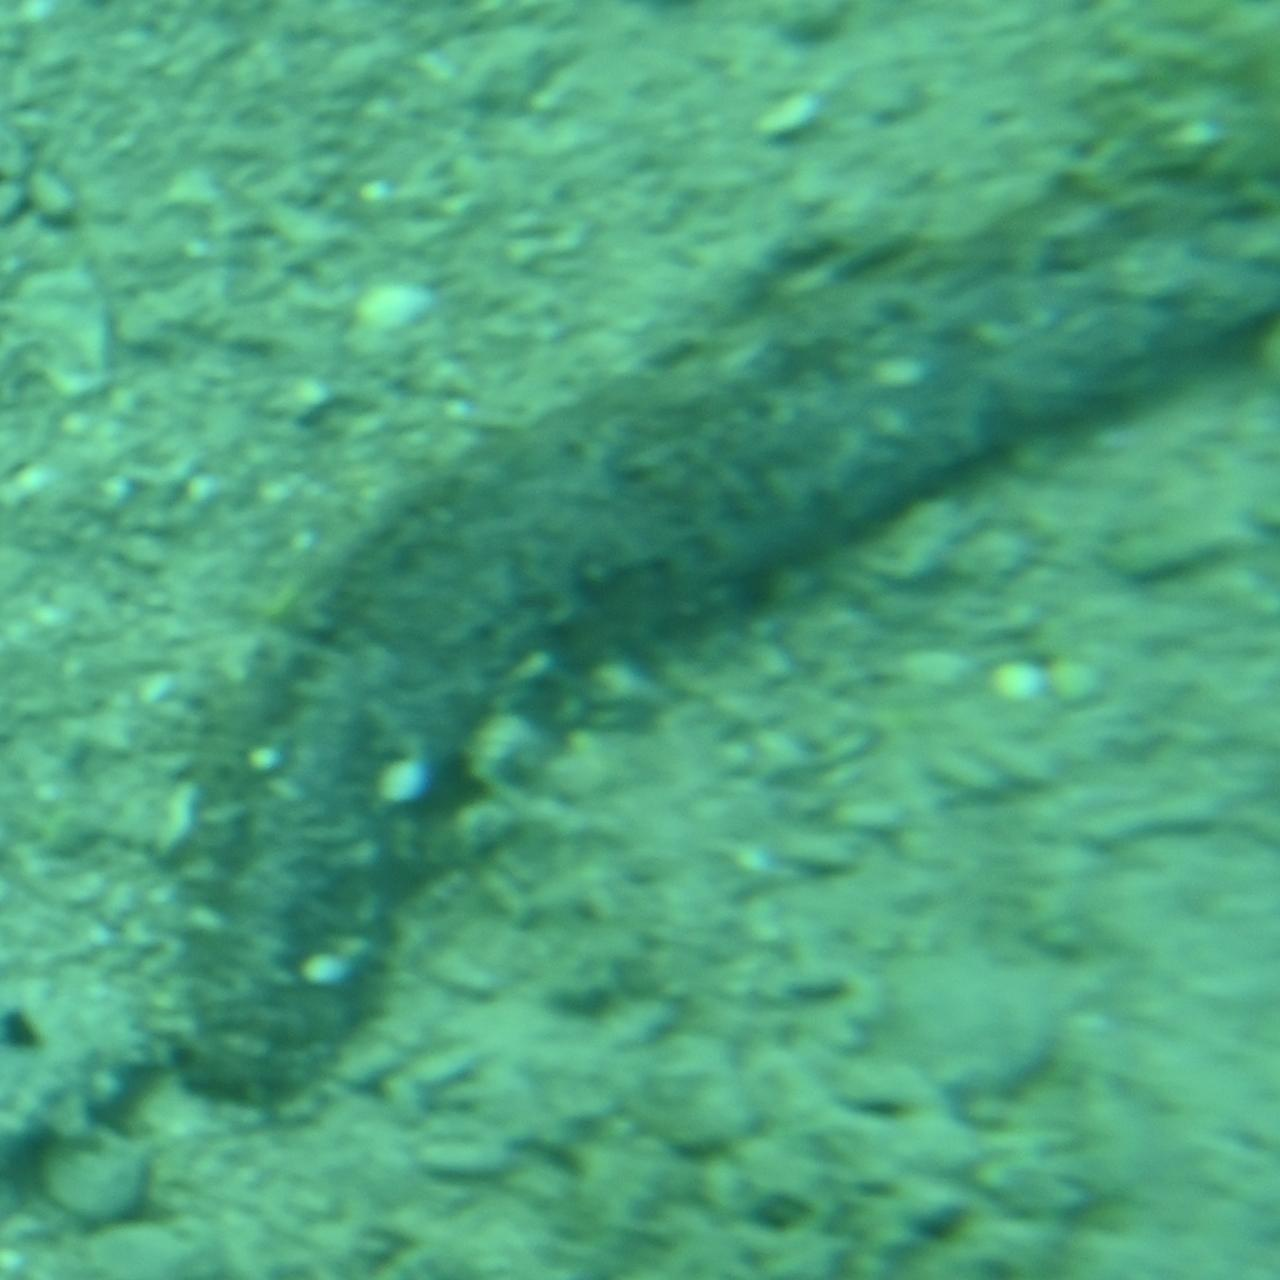Holothuria tubulosa: (177, 145, 1277, 1135)
